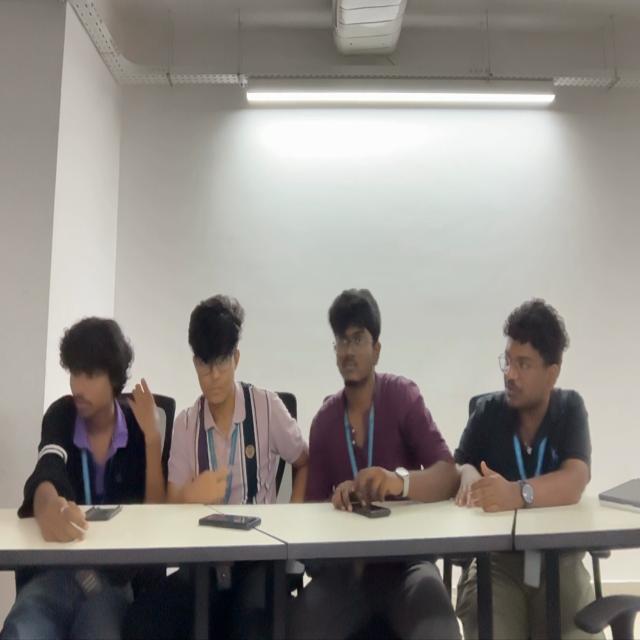Isolated: (311, 287, 452, 503), (172, 294, 306, 501), (465, 298, 590, 504), (36, 317, 162, 494)
